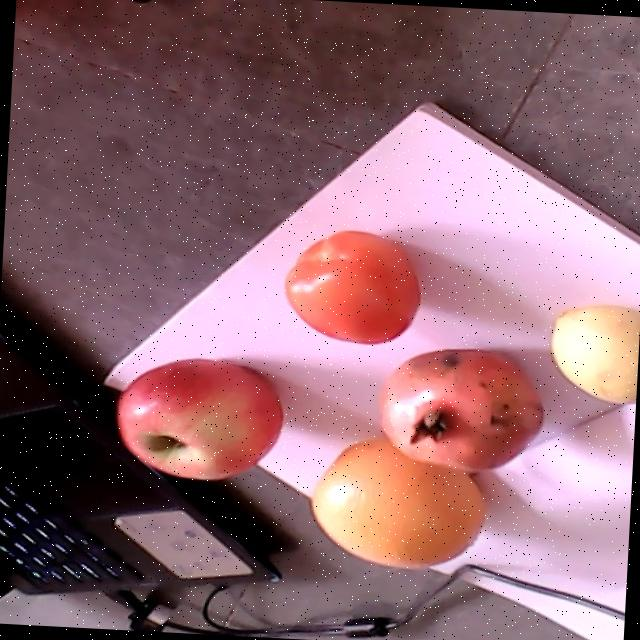apple: (118, 358, 282, 479)
lemon: (552, 304, 640, 404)
orange: (310, 436, 486, 567)
pomegranate: (376, 348, 545, 472)
tomato: (284, 230, 418, 344)
